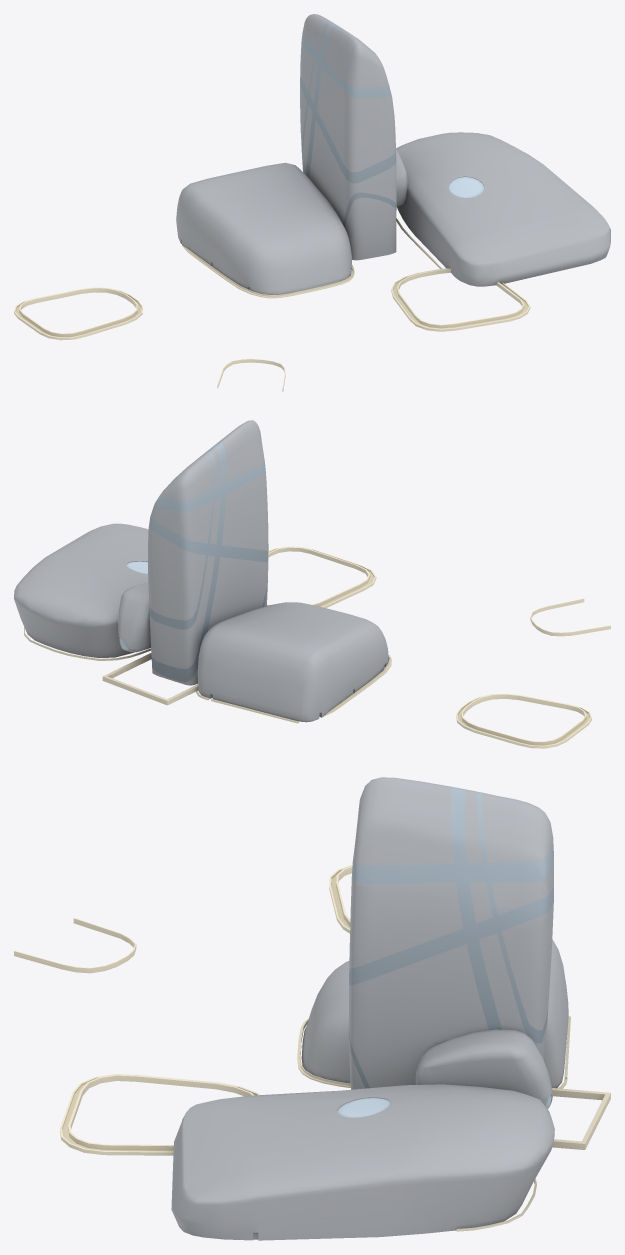
3 renders of one model, top to bottom at view 1: azimuth 30°, elevation 25°; view 2: azimuth 150°, elevation 25°; view 3: azimuth 270°, elevation 25°, orthographic. The views are drawn at different scales.
Visible parts, largest first — view 1: King_Abdulaziz_Center_baked; view 2: King_Abdulaziz_Center_baked; view 3: King_Abdulaziz_Center_baked.
Boxes of the visible parts, left/top/right/bottom form: King_Abdulaziz_Center_baked: left=14, top=14, right=610, bottom=391; King_Abdulaziz_Center_baked: left=14, top=420, right=610, bottom=748; King_Abdulaziz_Center_baked: left=14, top=777, right=610, bottom=1240.
Bounding box in the file's own units: 196 × 78.04 × 132.
1 material, 1 textured.
